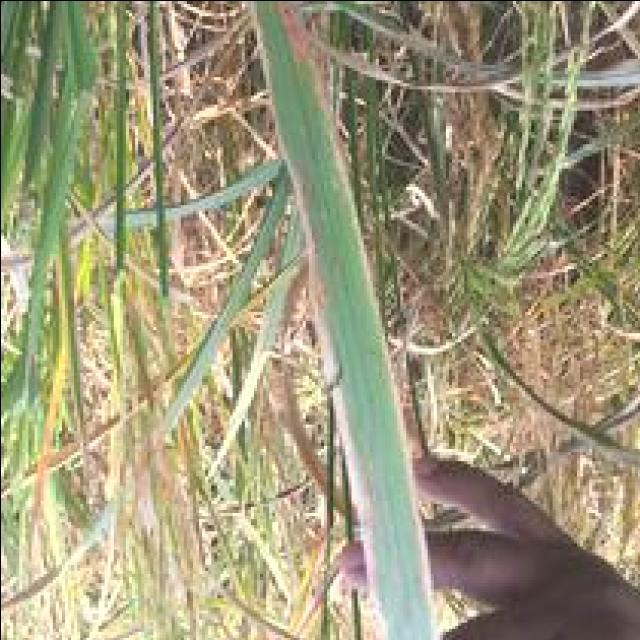Bacterial_Leaf_Blight: (274, 86, 393, 640)
